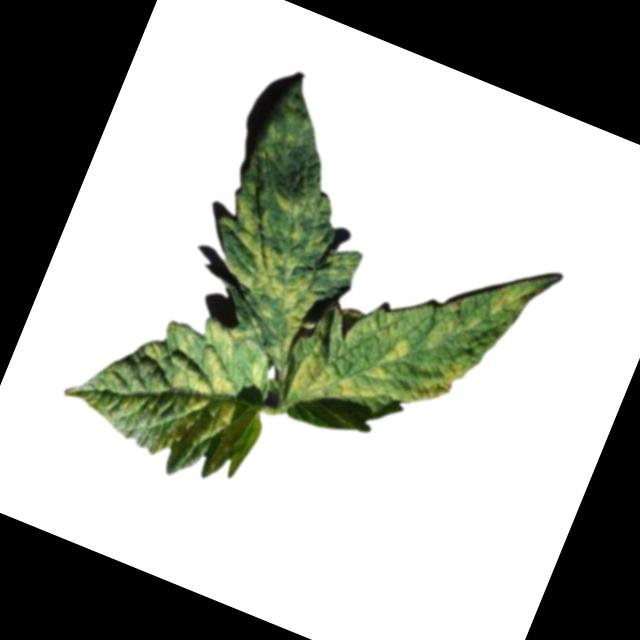Leaf_Mold: (280, 194, 564, 492), (179, 62, 408, 364), (55, 282, 291, 499)
